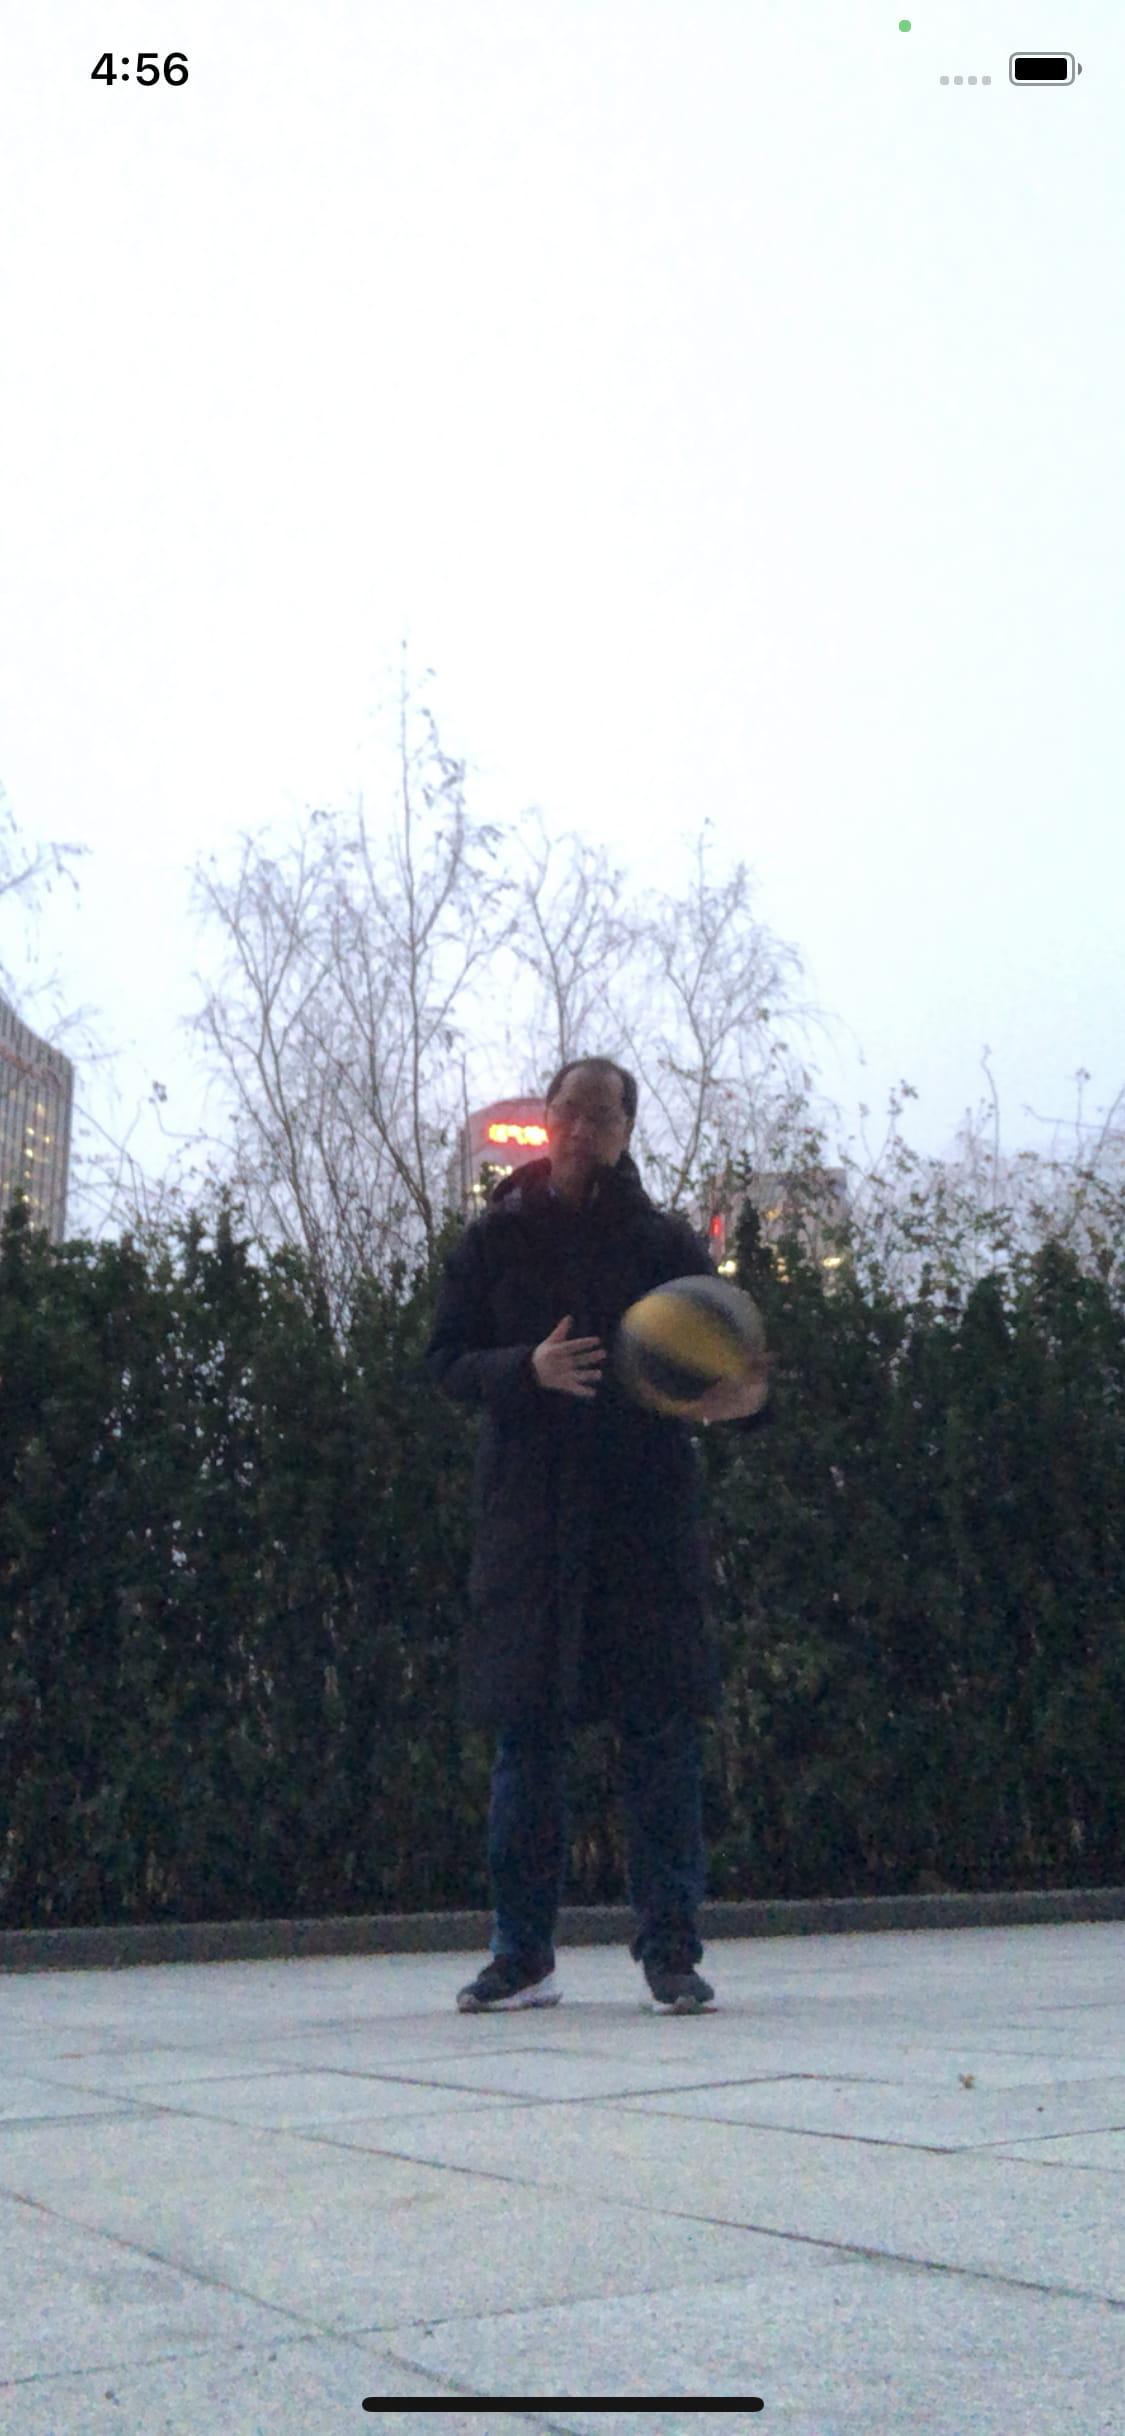ball: (618, 1272, 772, 1420)
